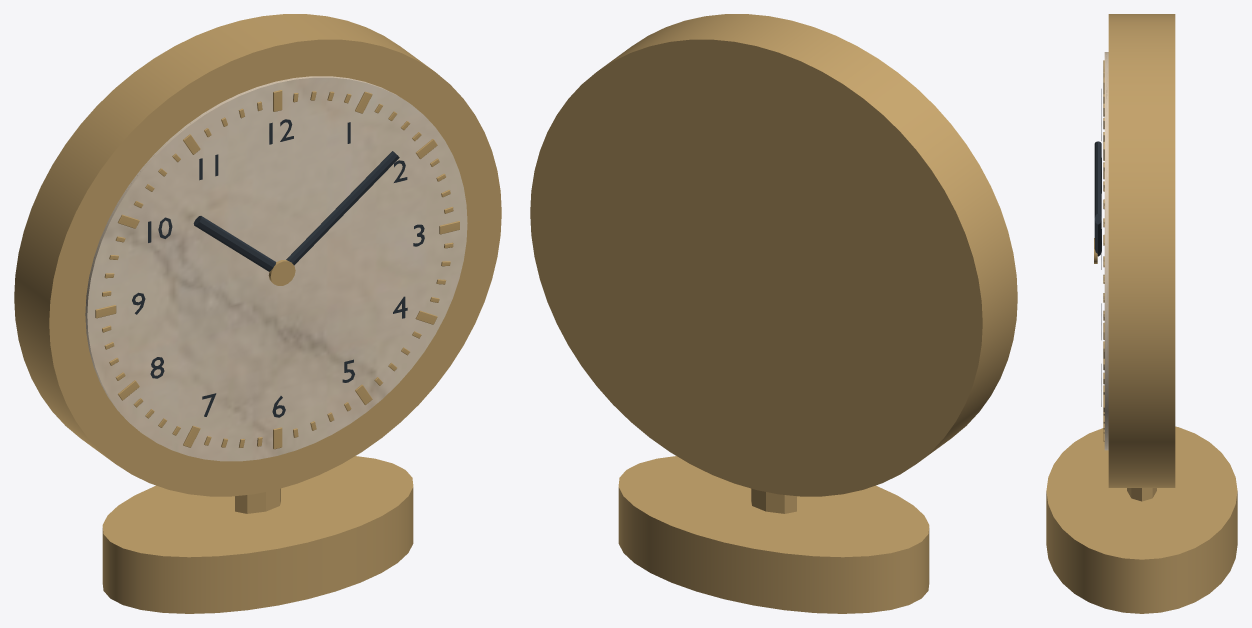
Rendered from clock-marble-brass.glb.
The picture shows the model from 3 angles, left to right: view 1: azimuth 30°, elevation 25°; view 2: azimuth 150°, elevation 25°; view 3: azimuth 270°, elevation 25°; orthographic projection. The views are drawn at different scales.
Visible parts, largest first — view 1: clock-marble-brass authored assembly; view 2: clock-marble-brass authored assembly; view 3: clock-marble-brass authored assembly.
Boxes of the visible parts, left/top/right/bottom form: clock-marble-brass authored assembly: left=14, top=14, right=501, bottom=613; clock-marble-brass authored assembly: left=530, top=14, right=1017, bottom=613; clock-marble-brass authored assembly: left=1046, top=14, right=1237, bottom=613.
Size of the model in its own units: 0.17 by 0.19 by 0.065.
3 materials, 1 textured.
